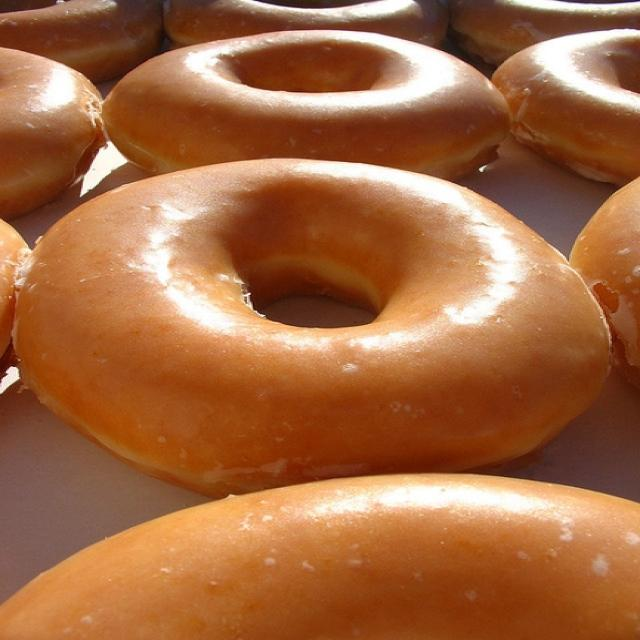炸货点心: (12, 14, 619, 624)
